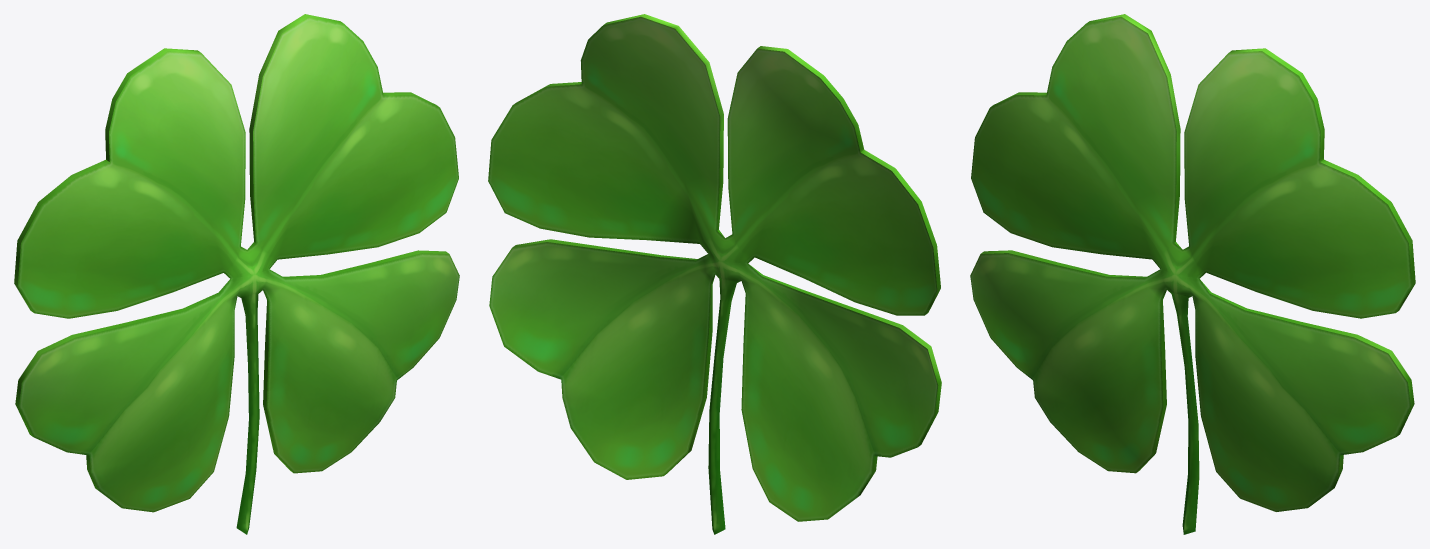
File: siyecao.FBX
3 renders of one model, left to right at view 1: azimuth 30°, elevation 25°; view 2: azimuth 150°, elevation 25°; view 3: azimuth 330°, elevation 25°, orthographic.
Visible parts, largest first — view 1: siyecao_01; view 2: siyecao_01; view 3: siyecao_01.
Boxes of the visible parts, x1,y1,x2,y2 form: siyecao_01: (14,14,459,534); siyecao_01: (488,14,941,534); siyecao_01: (970,14,1415,534).
Bounding box in the file's own units: 1.74 × 1.86 × 0.1637.
Materials: 1 (1 with a texture image).
